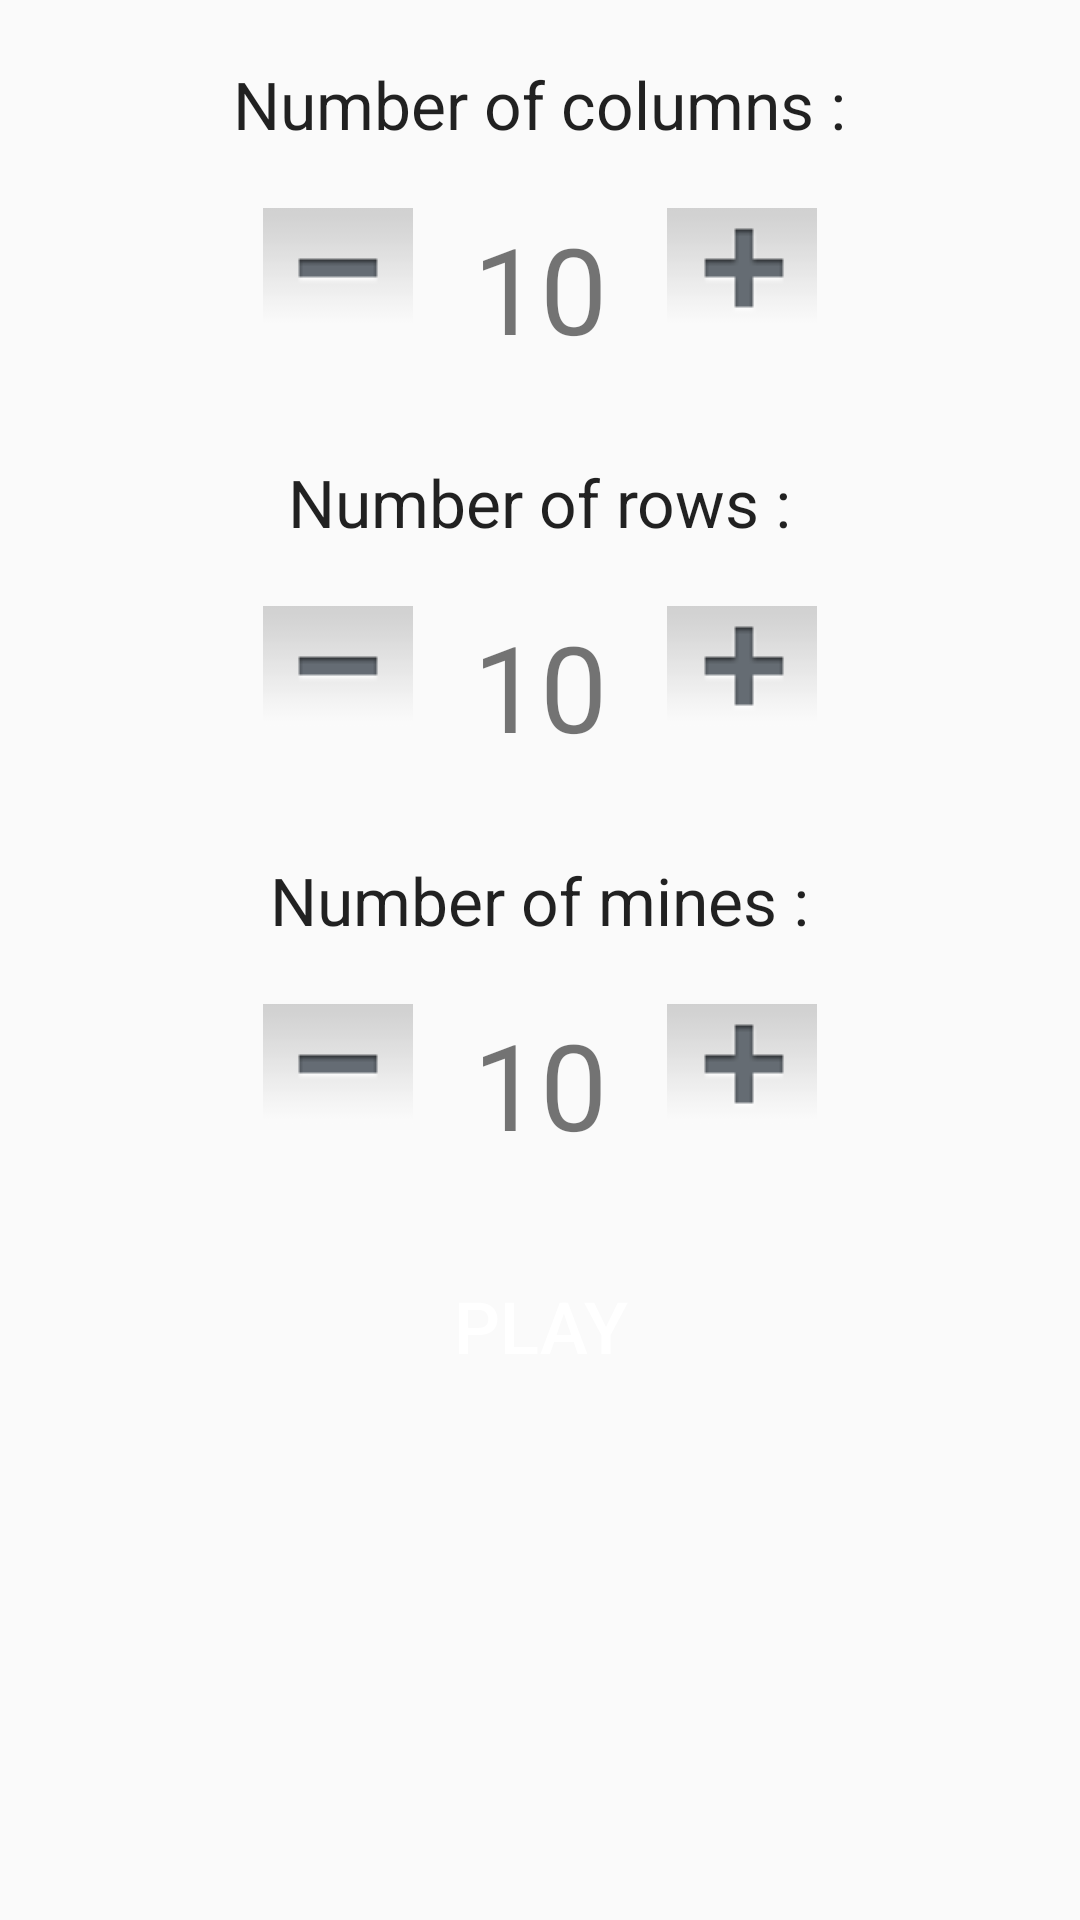

Where icons sit on this 1080x1920 app screen, as (x1, y1, x2, y2):
less: (263, 208, 413, 278), (263, 606, 413, 676), (263, 1004, 413, 1074)
more: (667, 208, 817, 308), (667, 606, 817, 706), (667, 1004, 817, 1104)
